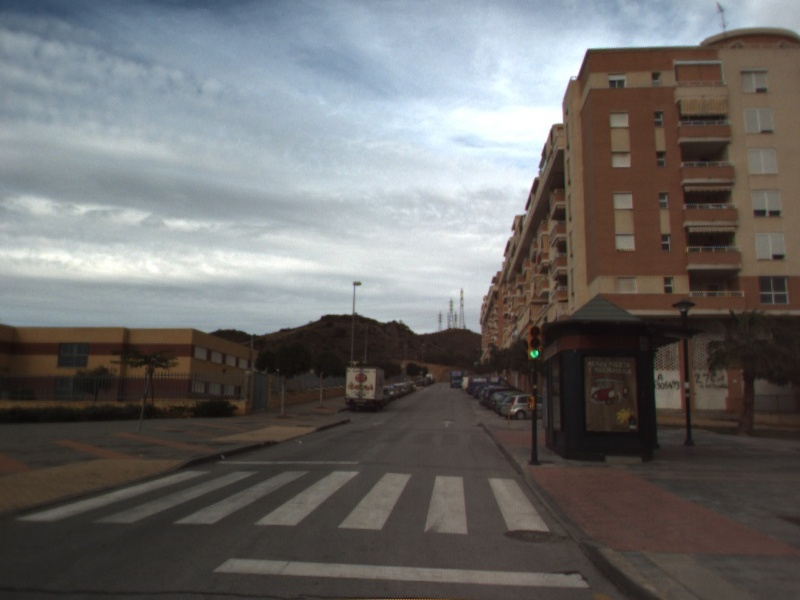STRAIGHT: (439, 418, 456, 429)
